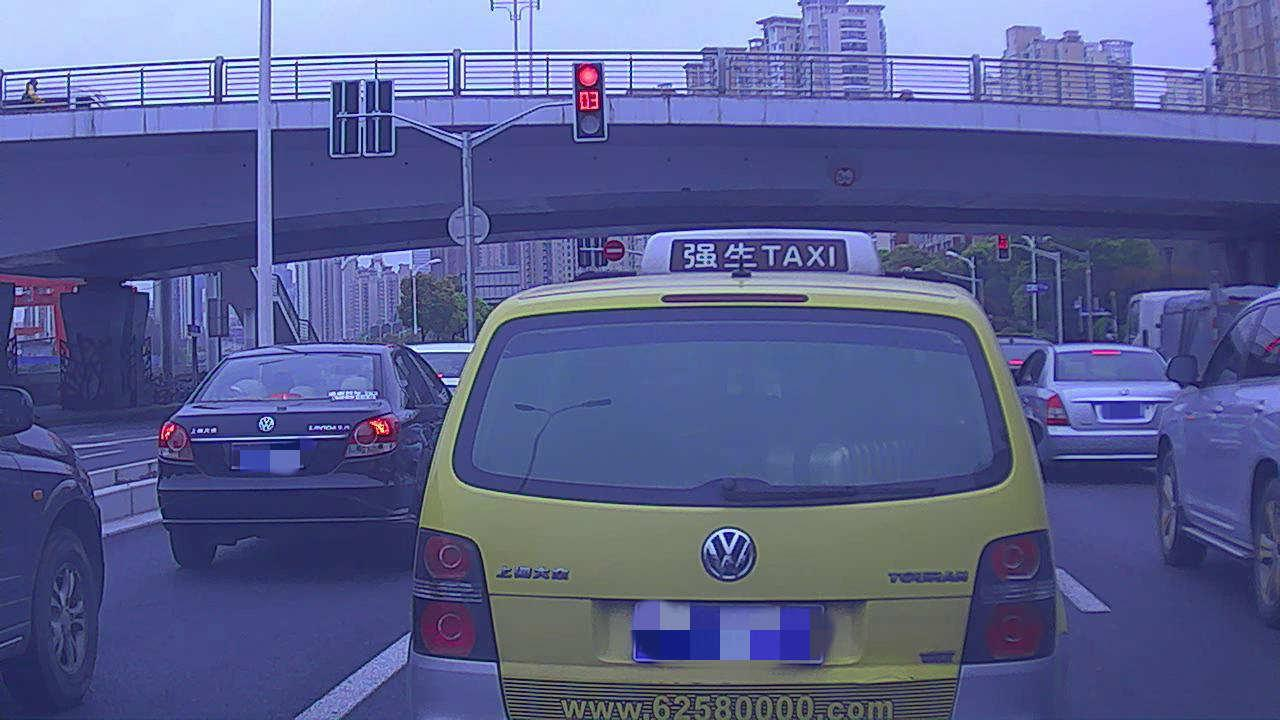traffic_light: (574, 62, 606, 139)
